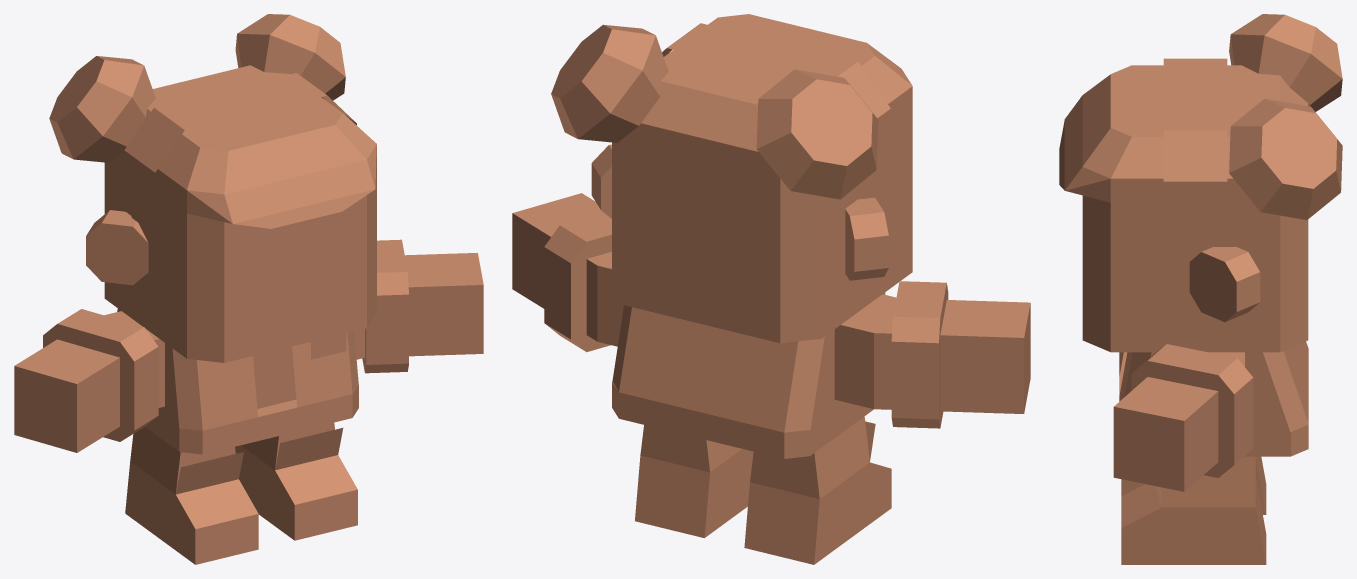
File: character-employee.obj
3 views of the same model, side by side, from view 1: azimuth 30°, elevation 25°; view 2: azimuth 150°, elevation 25°; view 3: azimuth 270°, elevation 25° (orthographic). The views are drawn at different scales.
Size of the model in its own units: 0.7806 by 0.7234 by 0.4014.
